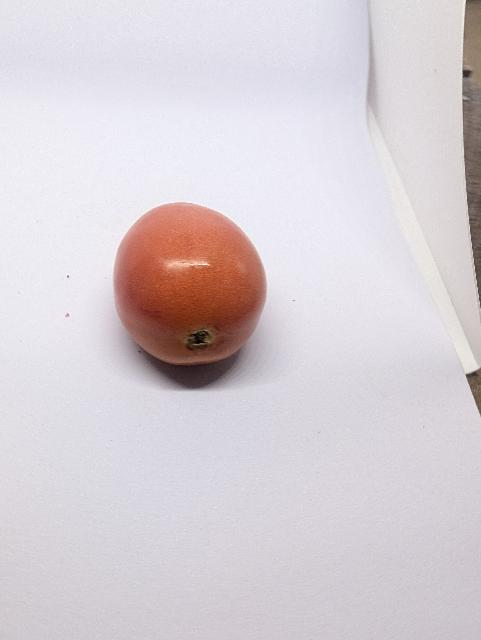red: (107, 195, 281, 374)
